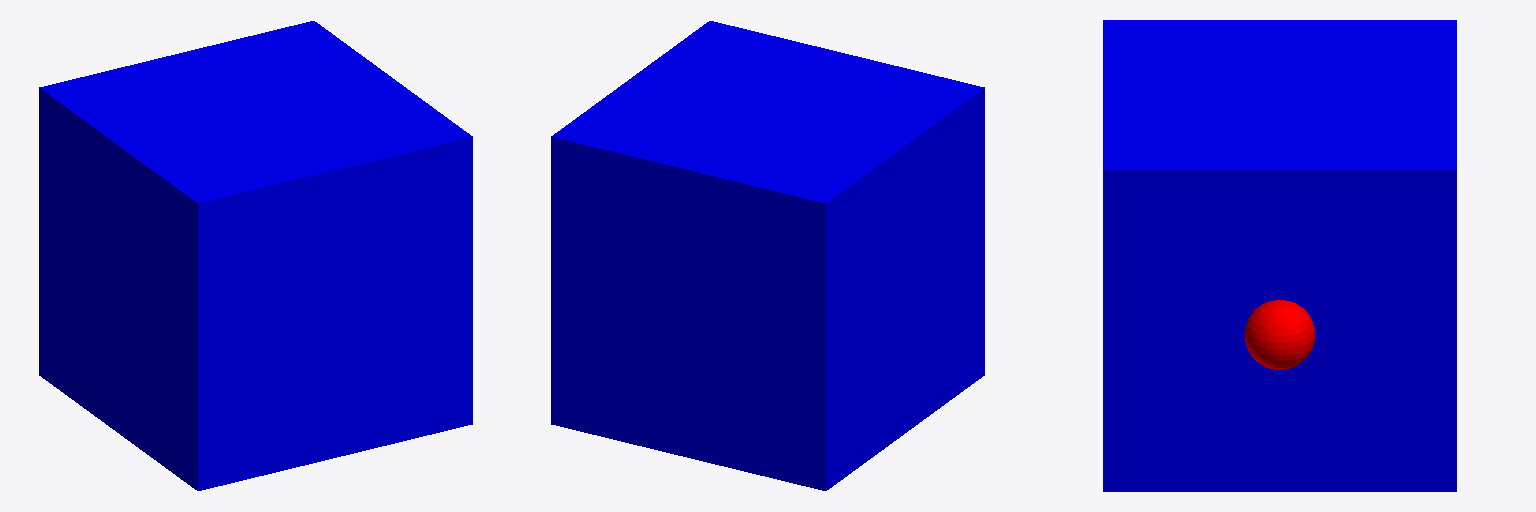
robot.urdf — pivoting:
<?xml version="1.0" ?>
<robot name="pivoting">

    <material name="blue">
        <color rgba="0 0 1 1"/>
    </material>

    <material name="green">
        <color rgba="0 1 0 1"/>
    </material>

    <material name="red">
        <color rgba="1 0 0 1"/>
    </material>

    <material name="white">
        <color rgba="1 1 1 1"/>
    </material>

    <link name="base"/>
    <link name="base_x"/>
    <link name="base_z"/>
    <link name="box">
        <inertial>
            <mass value="12.0"/>
            <inertia ixx="1.33" ixy="0" ixz="0" iyy="1.33" iyz="0" izz="1.33"/>
        </inertial>
        <visual>
            <origin xyz="0 0 0"/>
            <geometry>
               <box size="2 2 2" />
            </geometry>
            <material name="blue"/>
        </visual>
    </link>
    <link name="finger_right">
        <visual>
            <origin xyz="1.05 0 0" rpy="0 0 0"/>
            <geometry>
                <sphere radius="0.2"/>           
            </geometry>
            <material name="red"/>
        </visual>
    </link>
    <link name="finger_left">
        <visual>
            <origin xyz="0 0 -1.05" rpy="0 0 0"/>
            <geometry>
                <sphere radius="0.2"/>           
            </geometry>
            <material name="red"/>
        </visual>
    </link>

   
    <joint name="box_x" type="prismatic">
        <parent link="base"/>
        <child link="base_x"/>
        <axis xyz="1 0 0"/>
    </joint>
	
    <joint name="box_z" type="prismatic">
        <parent link="base_x"/>
        <child link="base_z"/>
        <axis xyz="0 0 1"/>
    </joint>
    
    <joint name="box_angular" type="continuous">
        <parent link="base_z"/>
        <child link="box"/>
        <axis xyz="0 1 0"/>
    </joint>


    <joint name="finger_right" type="prismatic">
        <parent link="box"/>
        <child link="finger_right"/>
        <axis xyz="0 0 1"/>
    </joint>

    <joint name="finger_left" type="prismatic">
        <parent link="box"/>
        <child link="finger_left"/>
        <axis xyz="-1 0 0"/>
    </joint>

</robot>

--- Facts derived from the render (not from the file) ---
Views: 3 orthographic renders of the robot side by side, from view 1: azimuth 30°, elevation 25°; view 2: azimuth 150°, elevation 25°; view 3: azimuth 270°, elevation 25°.
Model pivoting with 6 links and 5 joints (1 continuous, 4 prismatic), rooted at base, posed all joints at 0.
Links seen in each view (by area): view 1: box; view 2: box; view 3: box, finger_right.
Boxes of the visible links, bbox=[...] form: box: bbox=[39, 21, 472, 490]; box: bbox=[551, 21, 984, 490]; box: bbox=[1103, 20, 1456, 491]; finger_right: bbox=[1245, 300, 1314, 369].
Bounding box of the posed robot: 2.25 × 2 × 2.25 m (x, y, z).
Geometry: primitives only (box / cylinder / sphere), no mesh files.